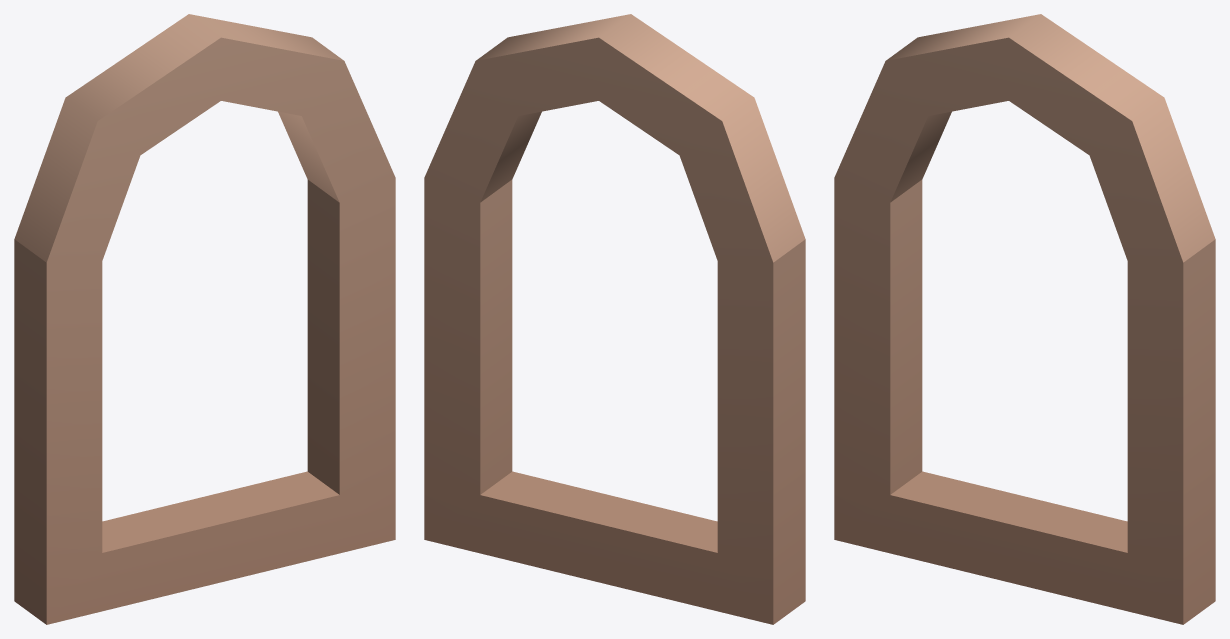
Rendered from window-brown-round-wide.glb.
3 views of the same model, side by side, from view 1: azimuth 30°, elevation 25°; view 2: azimuth 150°, elevation 25°; view 3: azimuth 330°, elevation 25° (orthographic).
Visible parts, largest first — view 1: window-brown-round-wide; view 2: window-brown-round-wide; view 3: window-brown-round-wide.
Part boxes in pixels (<box>): window-brown-round-wide: <box>14,14,395,624</box>; window-brown-round-wide: <box>424,14,805,624</box>; window-brown-round-wide: <box>834,14,1215,624</box>.
Bounding box in the file's own units: 0.3125 × 0.4662 × 0.05.
